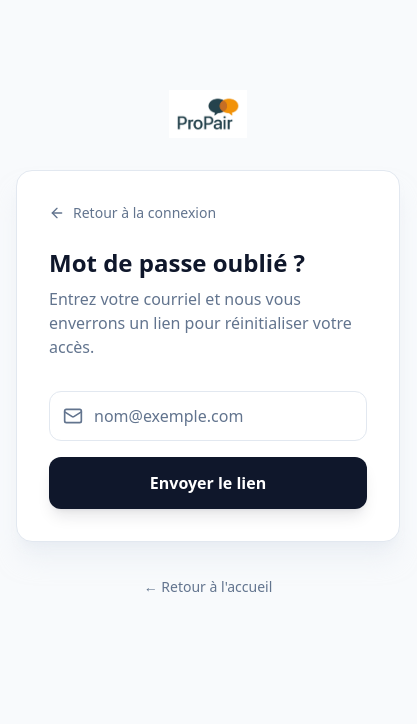
ForgotPassword › Utiliser une autre adresse resets form
This screenshot has width=417, height=724.
Step 1. Type "test@example.com" into the field named "Adresse courriel" → (208, 416), box [49, 391, 367, 441]
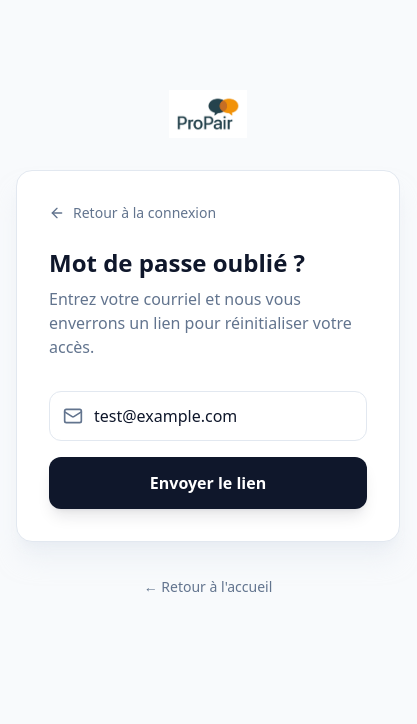
Step 2. Submit the text "Envoyer le lien", box [49, 391, 367, 509]
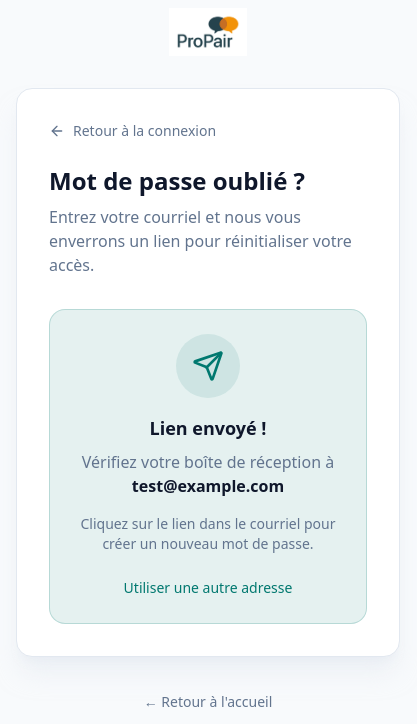
Expected: the heading "Lien envoyé !" is shown, [150, 416, 266, 440]
Step 3. Click the button "Utiliser une autre adresse" → (208, 588), box [124, 578, 292, 598]
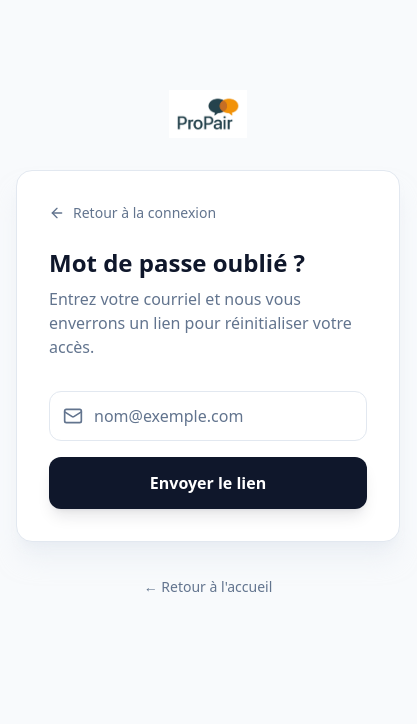
Expected: the button "Envoyer le lien" is shown, [49, 457, 367, 509]
